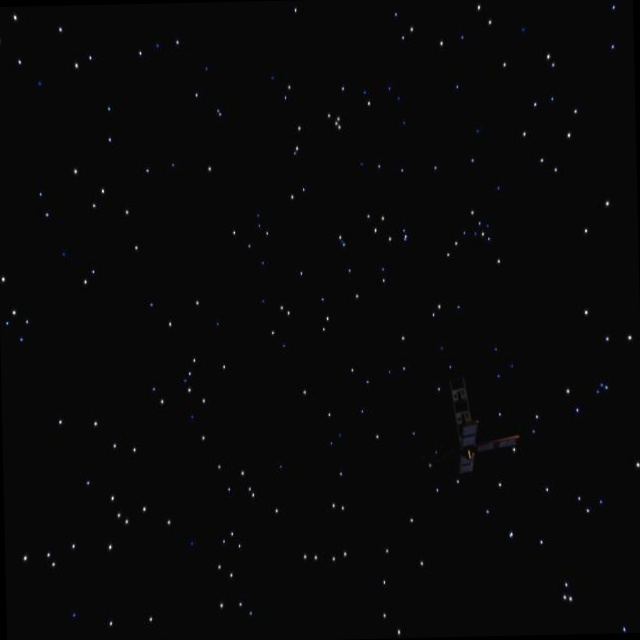satellite: (434, 367, 525, 483)
